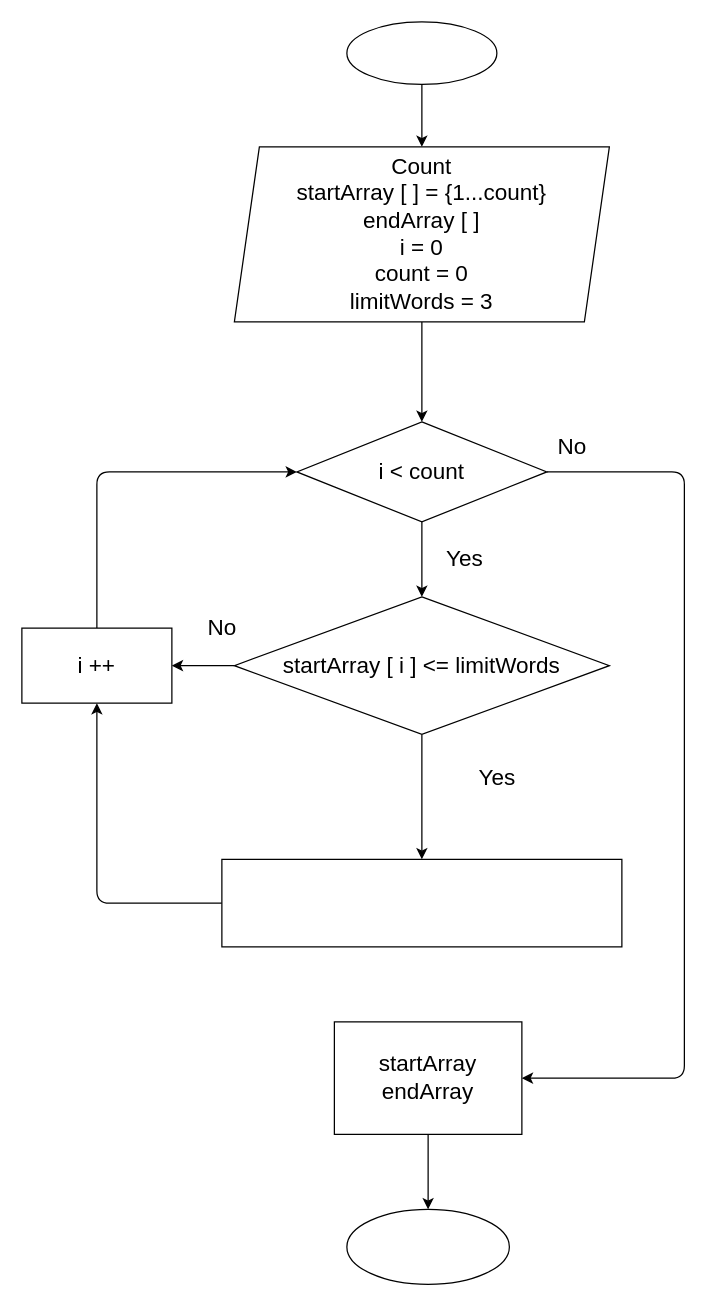
Image size: 716x1306. Some labels were removed from this diagram. The centre of each missing label's shape, as x and y in pixels:
"endArray [index] = startArray [ i ] index ++" goes at [421,902].
"Конец" goes at [427,1246].
"Начало" goes at [421,52].
